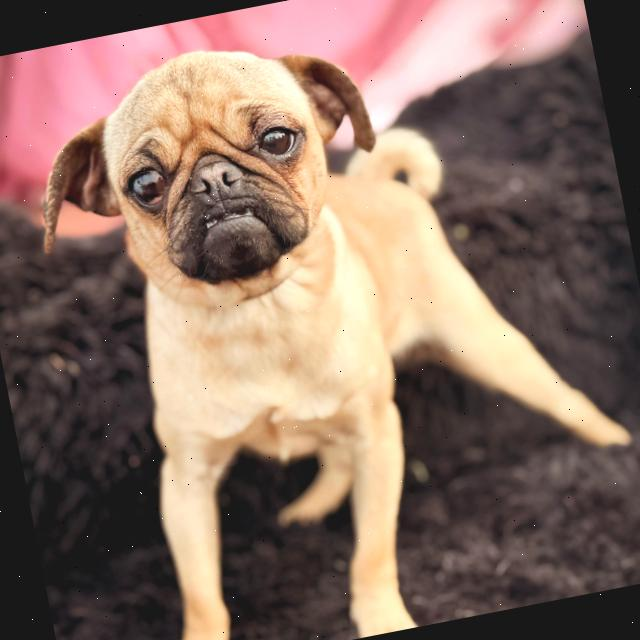pug_dog: (7, 6, 423, 360)
